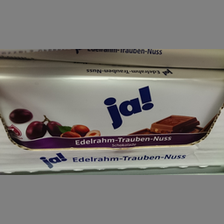chocolate: (1, 66, 224, 150)
